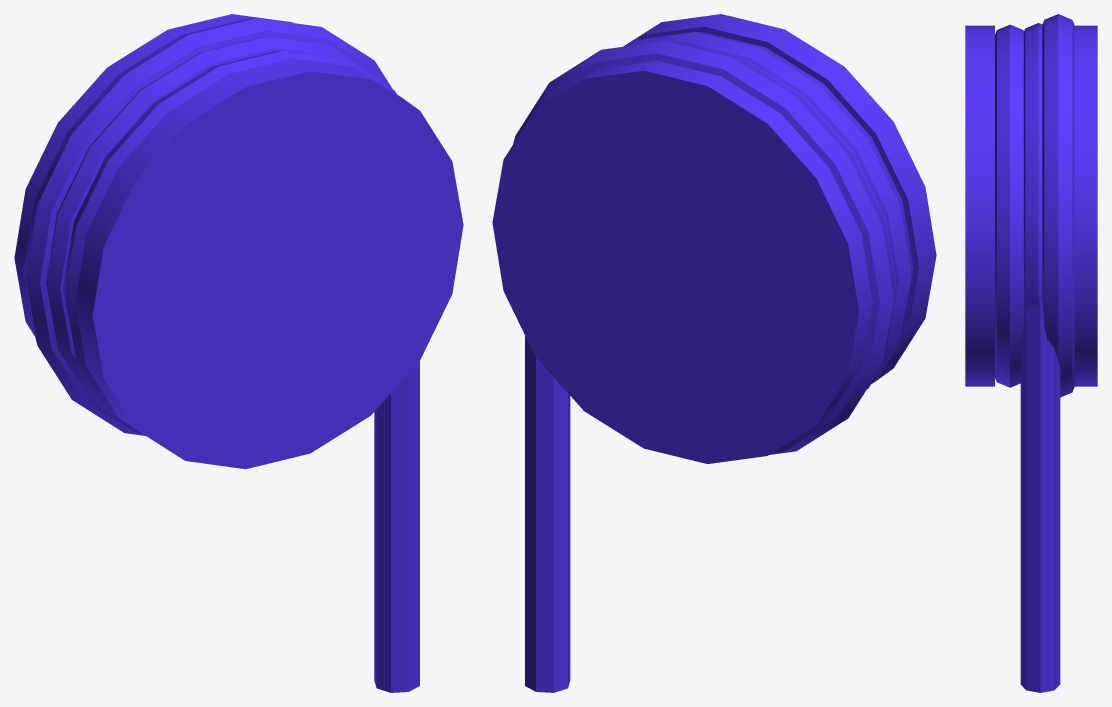
The model's file is SM_FireHose_01.fbx.
3 views of the same model, side by side, from view 1: azimuth 30°, elevation 25°; view 2: azimuth 150°, elevation 25°; view 3: azimuth 270°, elevation 25° (orthographic). The views are drawn at different scales.
Visible parts, largest first — view 1: SM_FireHose_01; view 2: SM_FireHose_01; view 3: SM_FireHose_01.
Boxes of the visible parts, x1,y1,x2,y2 form: SM_FireHose_01: (14, 14, 463, 692); SM_FireHose_01: (492, 14, 936, 692); SM_FireHose_01: (965, 14, 1097, 692).
Bounding box in the file's own units: 91.73 × 153 × 31.47.
